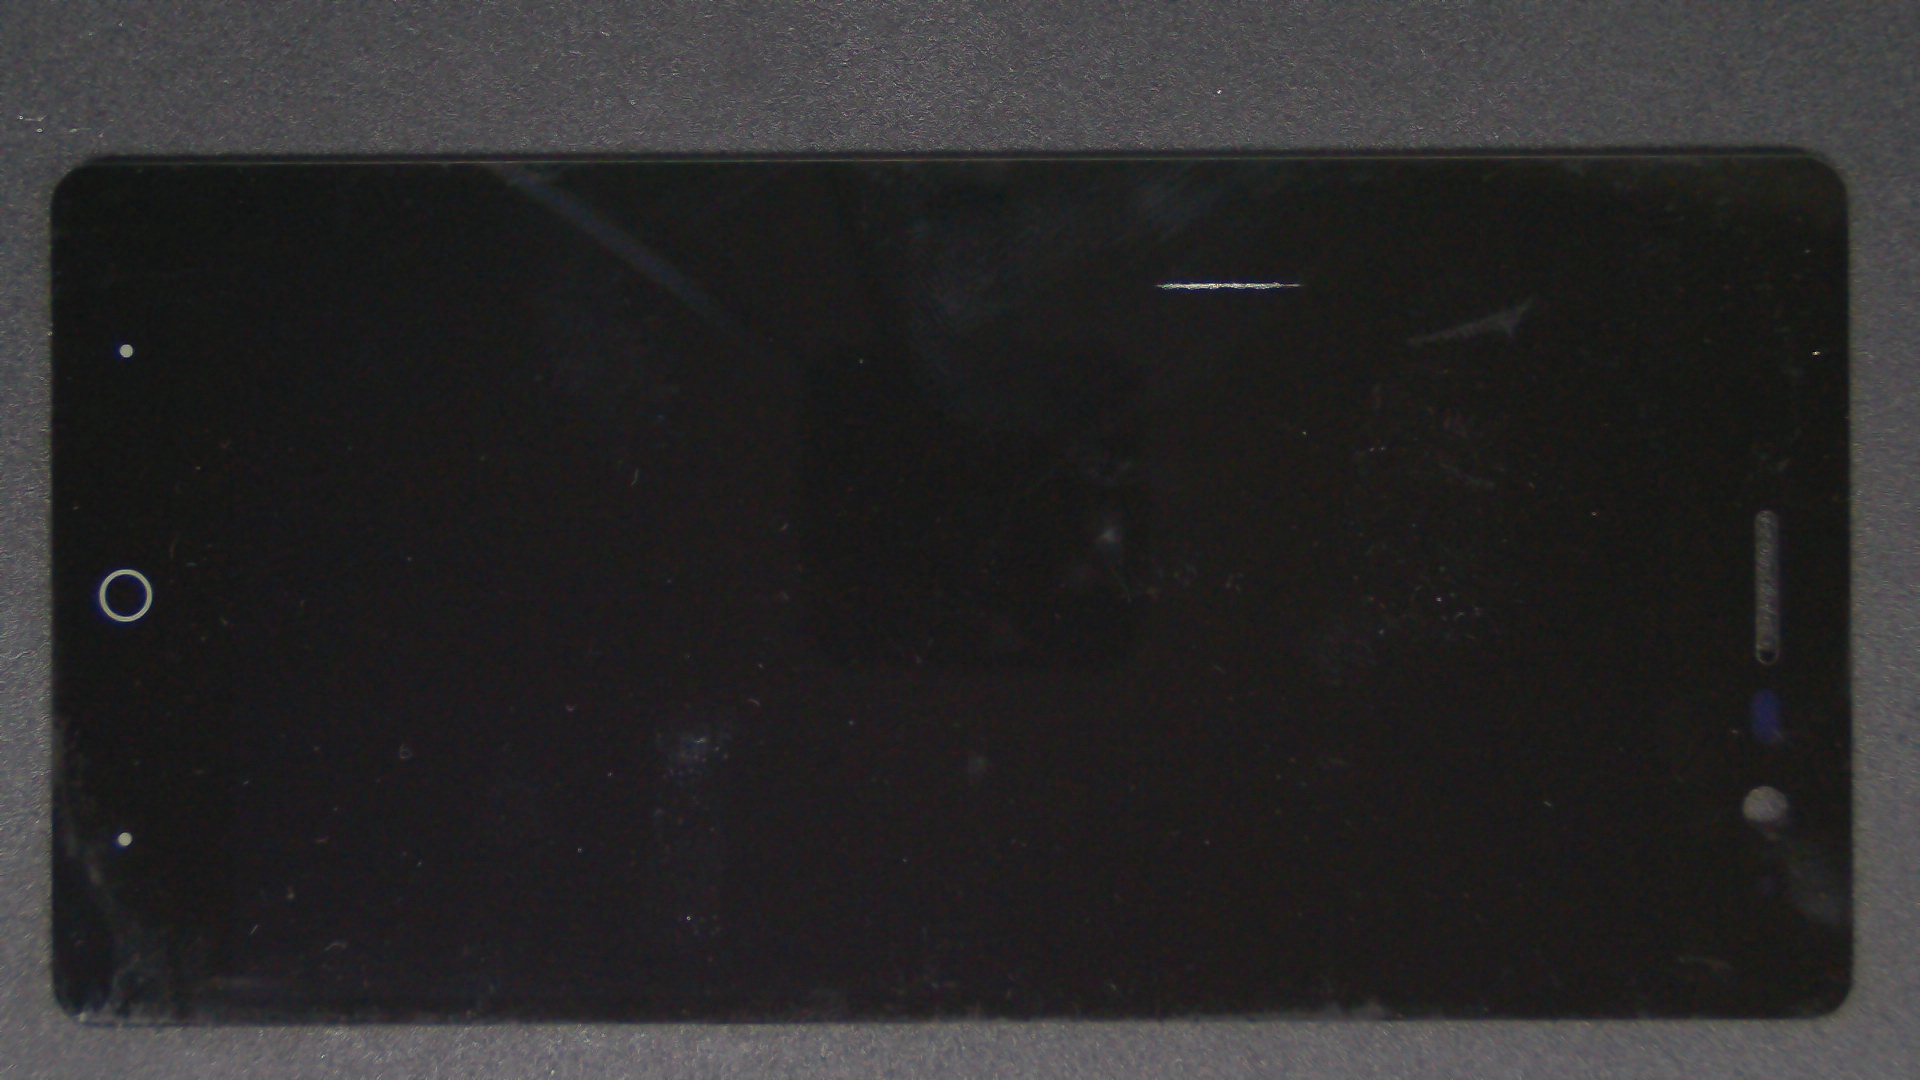defect: (1153, 281, 1302, 290)
